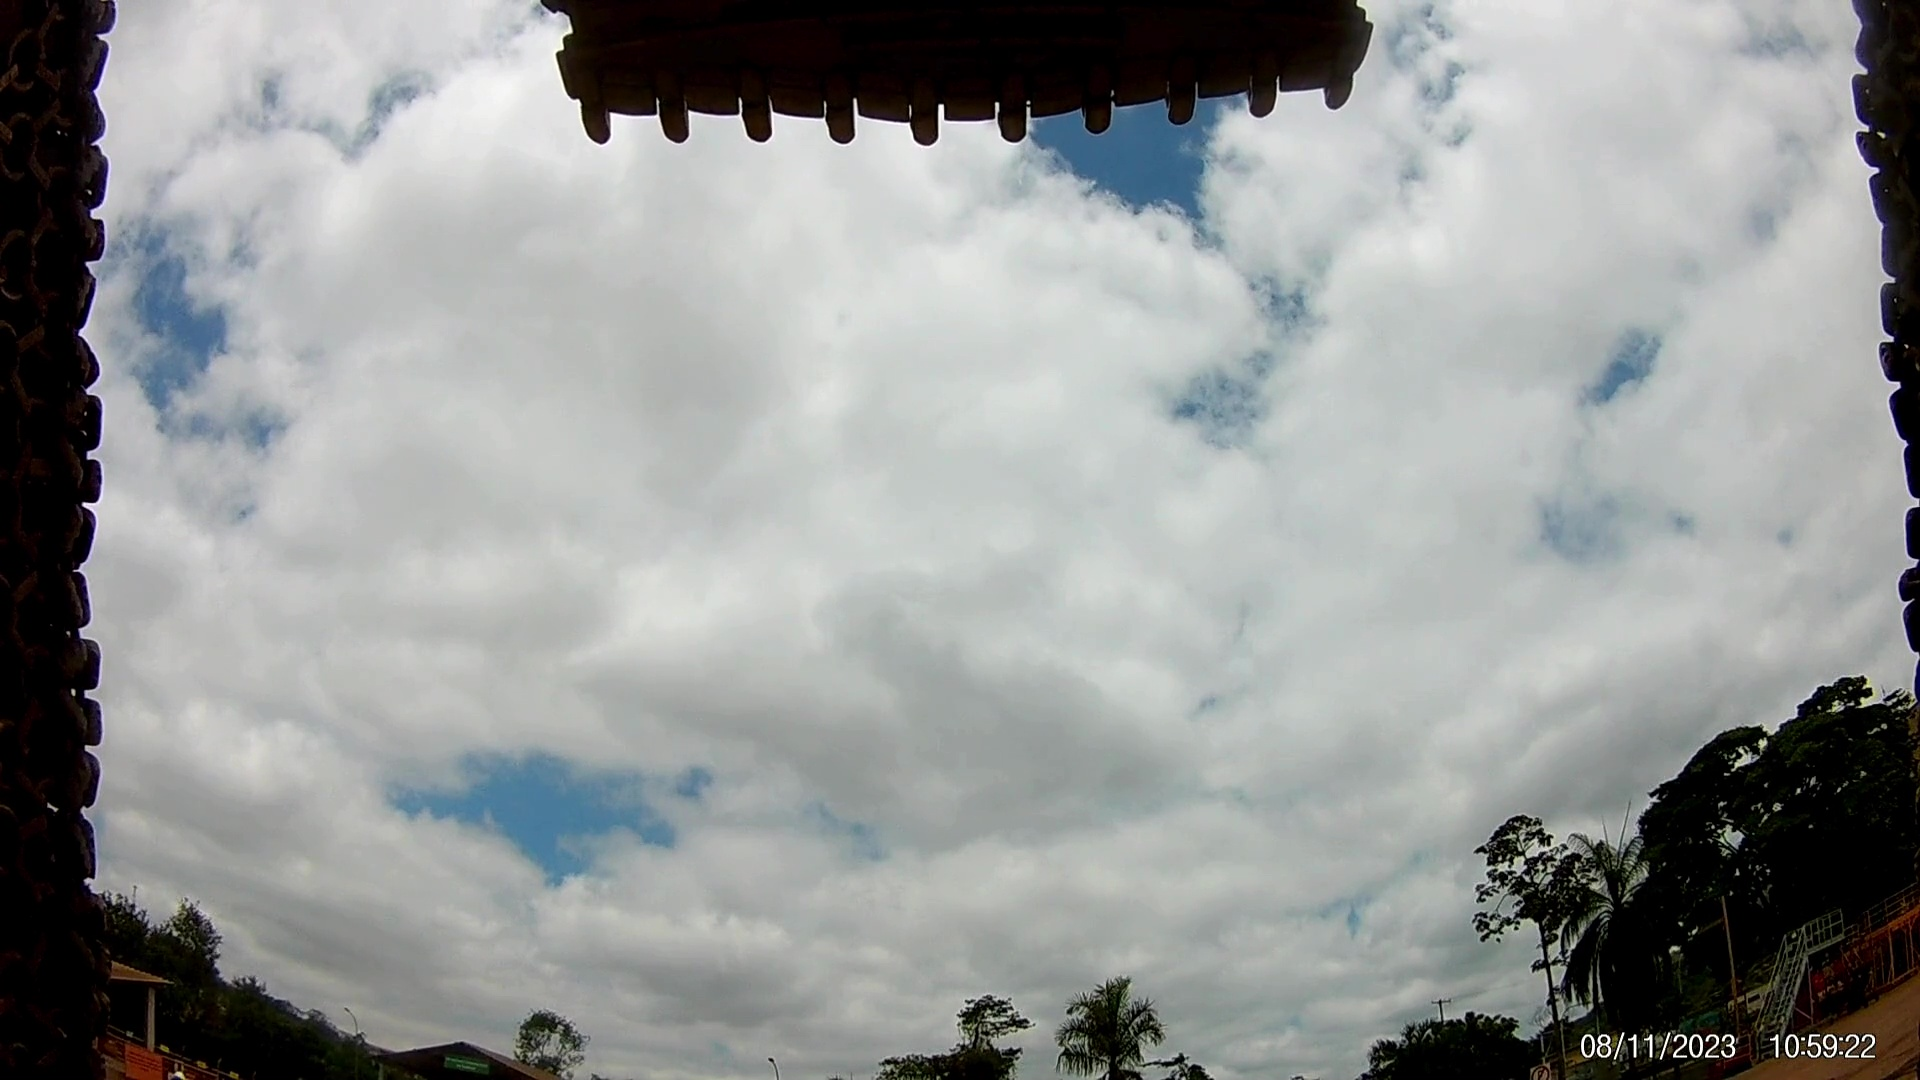FPS: (1317, 61, 1367, 136), (814, 88, 880, 145), (737, 91, 787, 160), (658, 94, 713, 153), (986, 91, 1042, 148), (1156, 74, 1204, 131), (1251, 57, 1284, 135), (1085, 74, 1118, 150), (578, 117, 636, 153), (916, 94, 944, 150)
